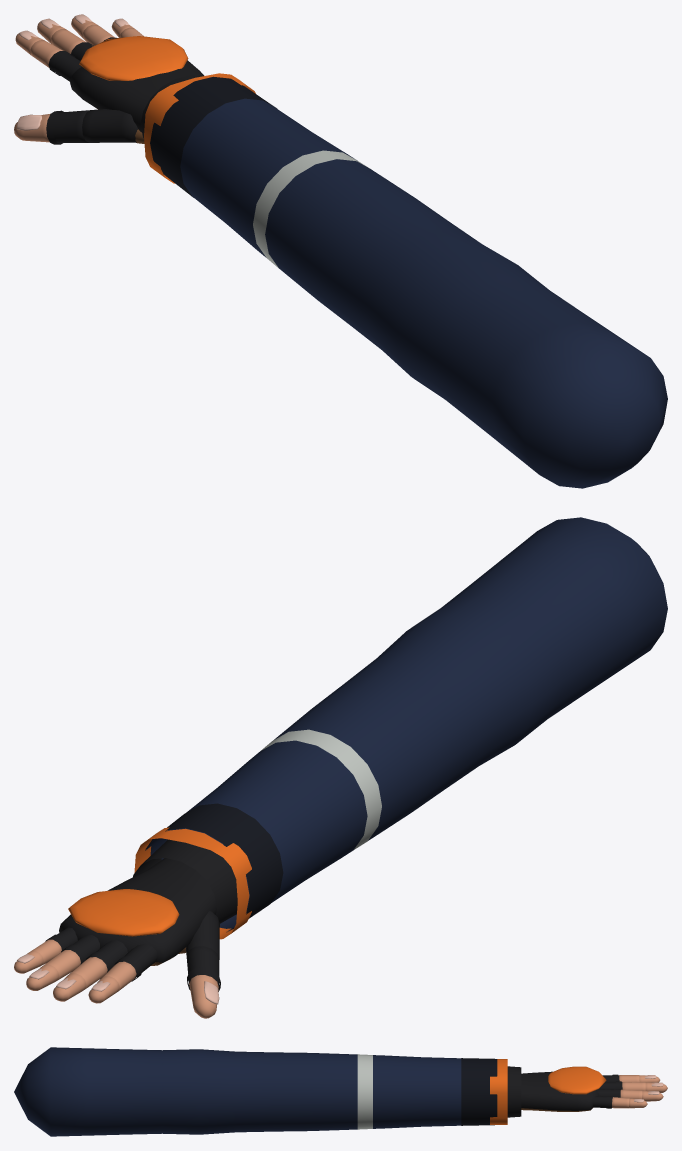
Rendered from FP_Hand_R.glb.
3 views of the same model, one above another, from view 1: azimuth 30°, elevation 25°; view 2: azimuth 150°, elevation 25°; view 3: azimuth 270°, elevation 25° (orthographic). The views are drawn at different scales.
Visible parts, largest first — view 1: Arm, Arm_Rib, Hand_Pad, Hand, Arm_Stripe, T_1, Hand_Strap, T_2; view 2: Arm, Hand, Arm_Rib, Hand_Pad, Hand_Cuff, Arm_Stripe, Hand_Strap, T_1, T_3, T_2; view 3: Arm, Arm_Rib, Hand, Hand_Pad, Arm_Stripe, Hand_Strap, Hand_Cuff, F2_2, F3_2, F4_2, F3_3, F4_1 (+1 smaller).
Part boxes in pixels (bbox=[...]): Arm: bbox=[180, 98, 667, 488]; Arm_Rib: bbox=[150, 76, 277, 197]; Hand_Pad: bbox=[79, 36, 188, 80]; Hand: bbox=[70, 60, 204, 132]; Arm_Stripe: bbox=[253, 150, 369, 267]; T_1: bbox=[82, 109, 138, 142]; Hand_Strap: bbox=[144, 73, 255, 183]; T_2: bbox=[53, 110, 89, 142]; Arm: bbox=[145, 517, 667, 931]; Hand: bbox=[59, 858, 216, 965]; Arm_Rib: bbox=[145, 803, 283, 931]; Hand_Pad: bbox=[68, 889, 179, 936]; Hand_Cuff: bbox=[133, 839, 237, 923]; Arm_Stripe: bbox=[261, 729, 381, 849]; Hand_Strap: bbox=[134, 827, 251, 939]; T_1: bbox=[186, 911, 219, 959]; T_3: bbox=[189, 975, 218, 1018]; T_2: bbox=[186, 946, 219, 986]; Arm: bbox=[14, 1047, 461, 1136]; Arm_Rib: bbox=[461, 1058, 497, 1125]; Hand: bbox=[521, 1071, 600, 1111]; Hand_Pad: bbox=[548, 1066, 606, 1094]; Arm_Stripe: bbox=[357, 1054, 372, 1129]; Hand_Strap: bbox=[490, 1059, 507, 1124]; Hand_Cuff: bbox=[507, 1066, 521, 1117]; F2_2: bbox=[622, 1082, 645, 1090]; F3_2: bbox=[620, 1089, 642, 1098]; F4_2: bbox=[612, 1097, 629, 1108]; F3_3: bbox=[642, 1090, 663, 1101]; F4_1: bbox=[593, 1096, 612, 1107].
Size of the model in its own units: 0.1463 by 0.1087 by 0.8202.
